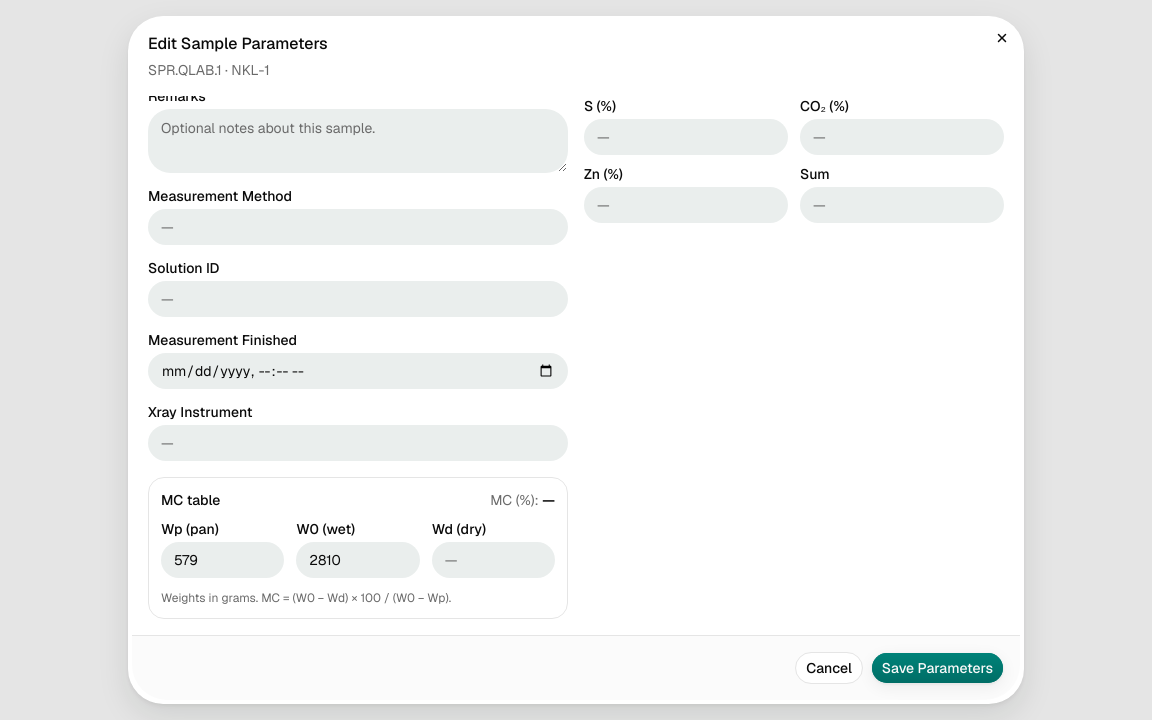
Scenario: the Tabel MC in the record dialog › says so, and will not save, when the dried sample is heavier than the wet one
(page scrolled)
Type "3000" into the number field labelled "Wd (dry)" at (493, 560), box [432,542,555,578]
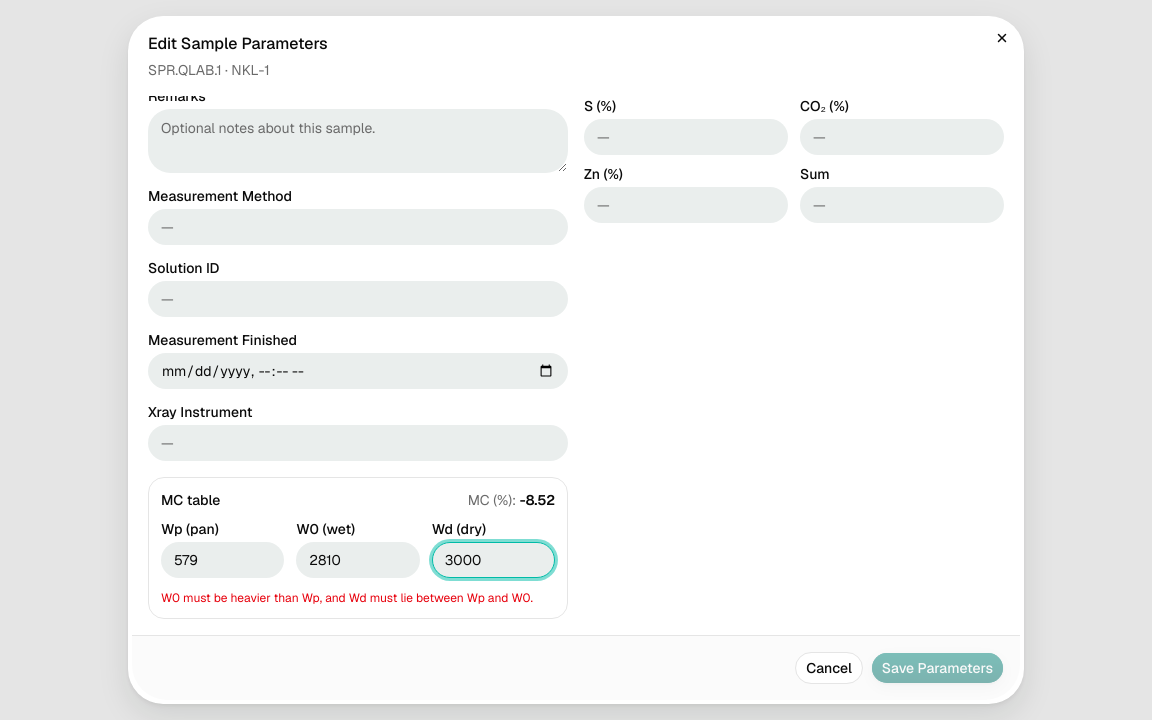
Expected: the text "W0 must be heavier than Wp, and Wd must lie between Wp and W0." is shown, [161,590,555,606]
Expected: the button "Save Parameters" is disabled, [871,652,1004,684]
